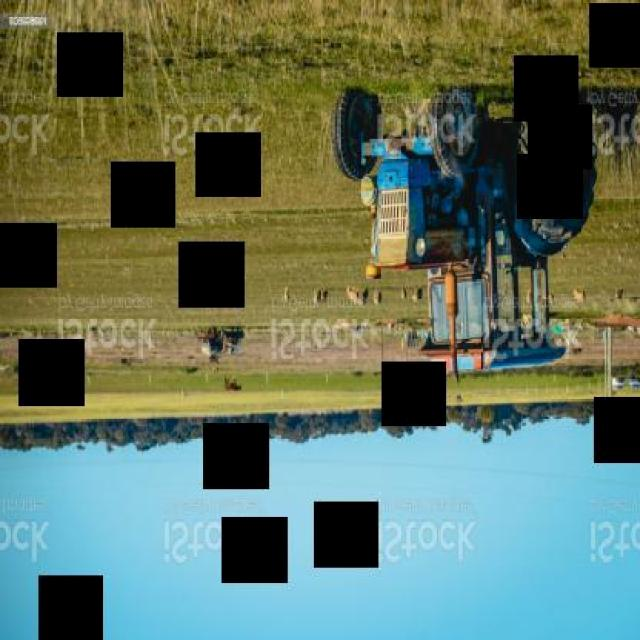Tratores - v5 YOLO V8L 2024-11-13: (318, 2, 606, 416)
